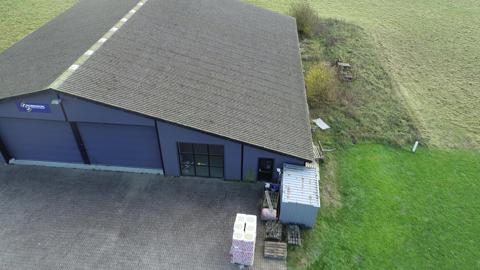RockwoolPallet: (232, 213, 255, 262)
